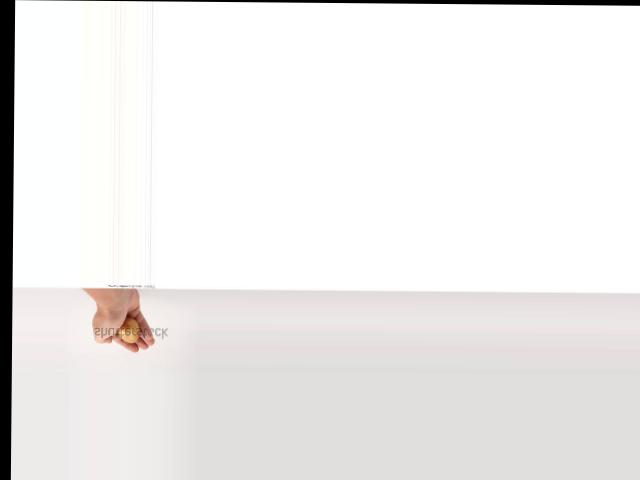egg: (118, 316, 139, 342)
